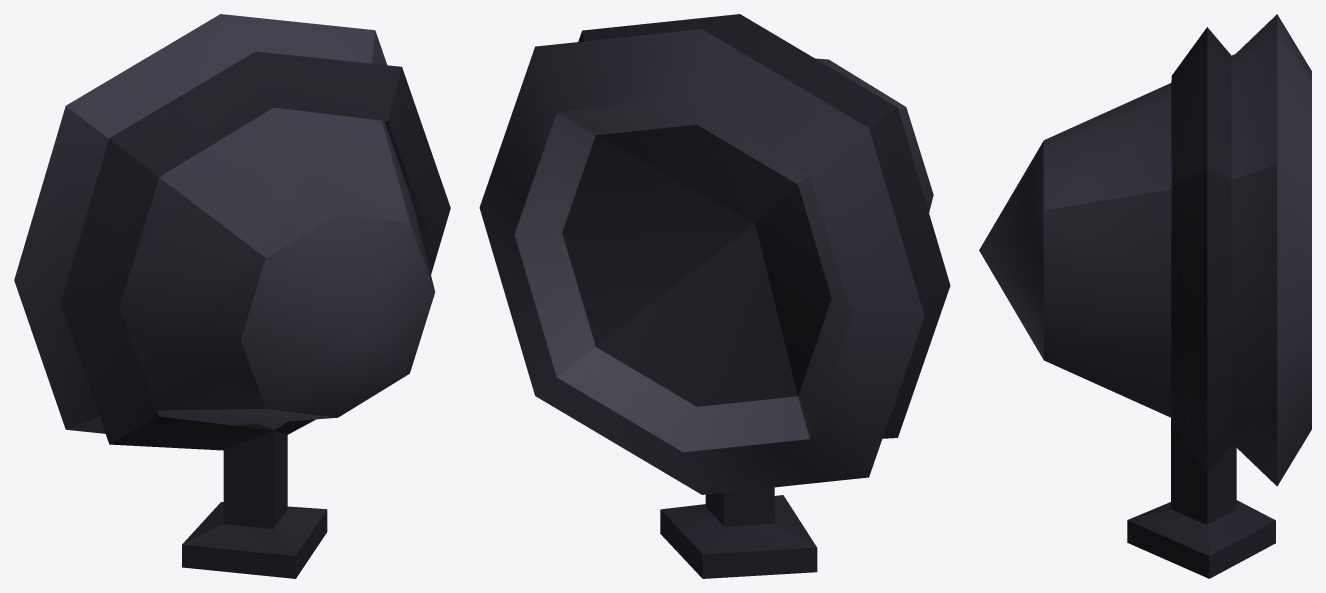
File: Wall Torch 01.FBX
3 renders of one model, left to right at view 1: azimuth 30°, elevation 25°; view 2: azimuth 150°, elevation 25°; view 3: azimuth 270°, elevation 25°, orthographic. The views are drawn at different scales.
Parts seen in each view (by area): view 1: Wall Torch 01; view 2: Wall Torch 01; view 3: Wall Torch 01.
Part boxes in pixels (x1,y1,x2,y2): Wall Torch 01: [14, 14, 450, 578]; Wall Torch 01: [479, 14, 950, 578]; Wall Torch 01: [979, 14, 1311, 578].
Bounding box in the file's own units: 20.39 × 24.11 × 14.31.
